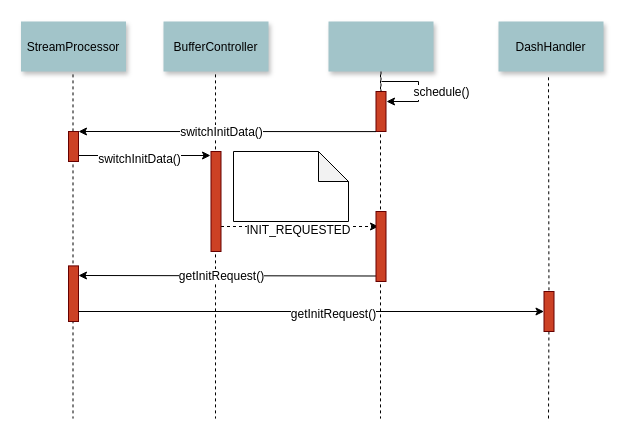
Some shapes in this 627 by 440 pixel diagram are drawn without their labels. The centre of each missing label's shape, as x and y in pixels:
"Check if init data in cache, then request for init segment" goes at [290,186].
"ScheduleController" goes at [381,47].
